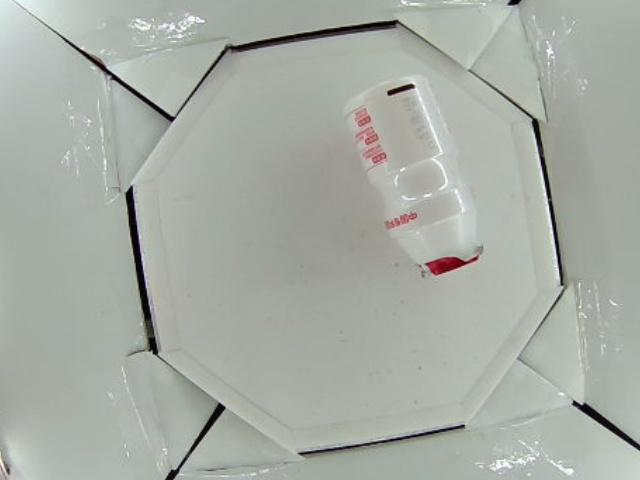Bottle: (340, 72, 484, 278)
